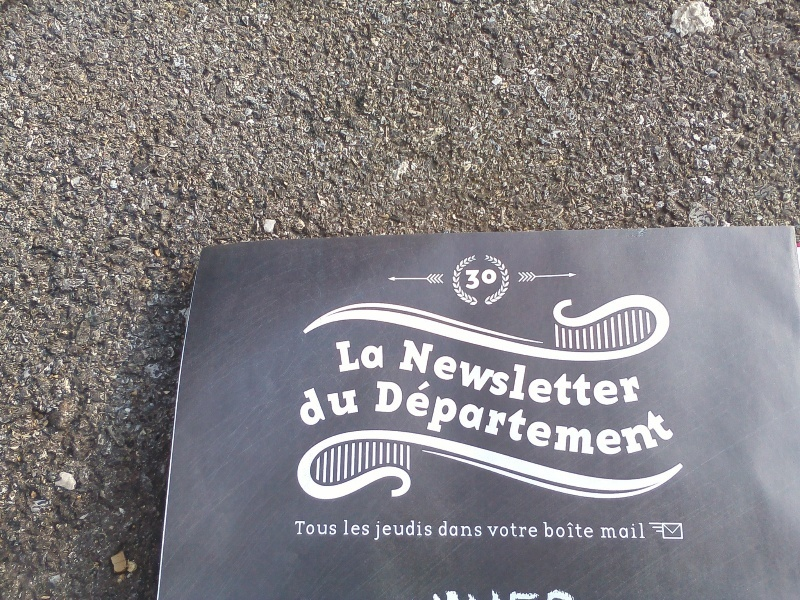text: (385, 375, 400, 466), (401, 375, 416, 466), (417, 375, 432, 466), (433, 375, 448, 466), (449, 375, 464, 466), (465, 375, 480, 466), (481, 375, 496, 466), (497, 375, 512, 466), (513, 375, 528, 466), (529, 375, 544, 466), (545, 375, 560, 466), (561, 375, 576, 466), (577, 375, 592, 466), (593, 375, 608, 466), (609, 375, 624, 466), (625, 375, 640, 466), (641, 375, 656, 466), (657, 375, 672, 466), (417, 338, 432, 423), (433, 338, 448, 423), (449, 338, 464, 423), (465, 338, 480, 423), (481, 338, 496, 423), (497, 338, 512, 423), (513, 338, 528, 423), (529, 338, 544, 423), (545, 338, 560, 423), (561, 338, 576, 423), (577, 338, 592, 423), (593, 338, 608, 423), (609, 338, 624, 423), (625, 338, 640, 423), (403, 338, 416, 423), (305, 376, 320, 430), (321, 376, 336, 430), (337, 376, 352, 430), (376, 375, 384, 466), (641, 338, 649, 423), (337, 338, 352, 373), (353, 338, 368, 373), (369, 338, 384, 373), (295, 376, 304, 430), (353, 376, 361, 430), (481, 268, 497, 293), (417, 517, 433, 542), (465, 268, 480, 293), (385, 517, 400, 542), (401, 517, 416, 542), (353, 517, 368, 538), (449, 519, 464, 540), (465, 519, 480, 540), (372, 517, 384, 542), (609, 522, 624, 542), (625, 522, 640, 542), (305, 520, 320, 539), (321, 520, 336, 539), (497, 521, 512, 540), (513, 521, 528, 540), (545, 521, 560, 540), (561, 521, 576, 540), (577, 521, 592, 540), (673, 375, 676, 466), (597, 522, 608, 542), (438, 519, 448, 540), (433, 586, 448, 599), (449, 586, 464, 599), (465, 586, 480, 599), (481, 586, 496, 599), (497, 586, 512, 599), (513, 586, 528, 599), (529, 586, 544, 599), (545, 586, 560, 599), (561, 586, 576, 599), (486, 521, 496, 540), (343, 517, 352, 538), (295, 520, 304, 539), (529, 521, 538, 540), (641, 522, 647, 542), (423, 586, 432, 599), (577, 586, 585, 599), (369, 517, 372, 538), (481, 519, 483, 540), (593, 521, 595, 540), (337, 520, 338, 539), (543, 521, 544, 540)
